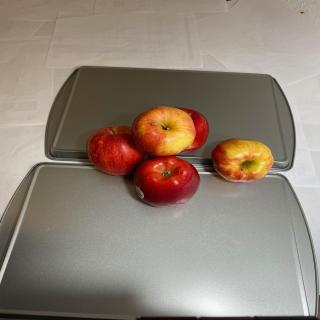Apple: (134, 156, 200, 208), (131, 106, 196, 156), (86, 125, 148, 176), (211, 138, 274, 183), (174, 107, 210, 155)
